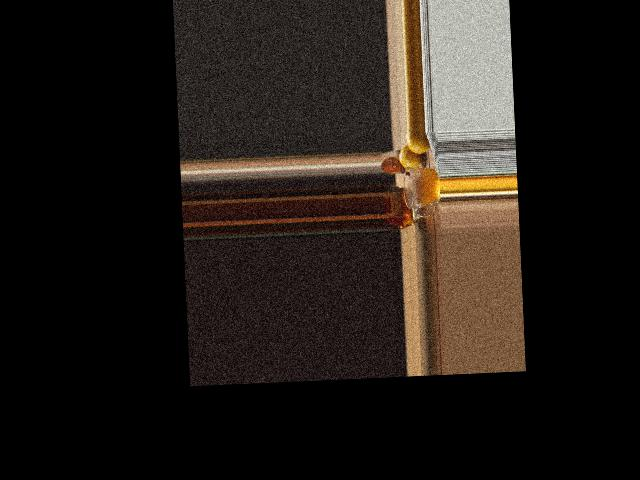lemon: (408, 132, 429, 151)
